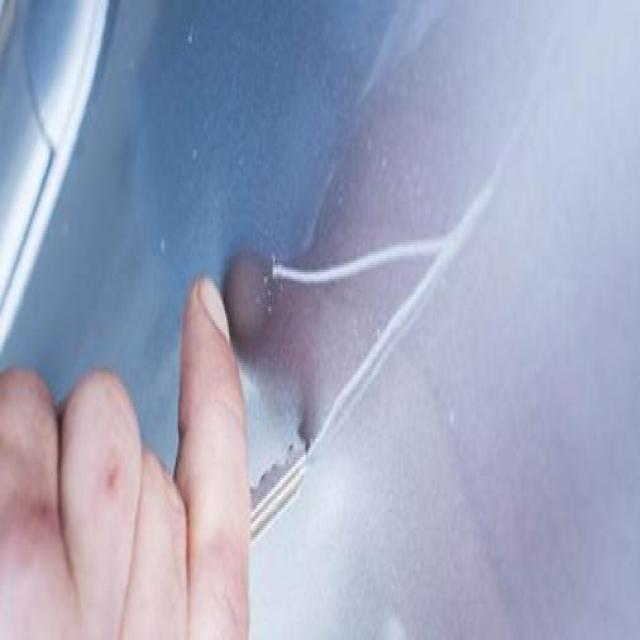scratch: (256, 216, 474, 294), (314, 310, 378, 488)
